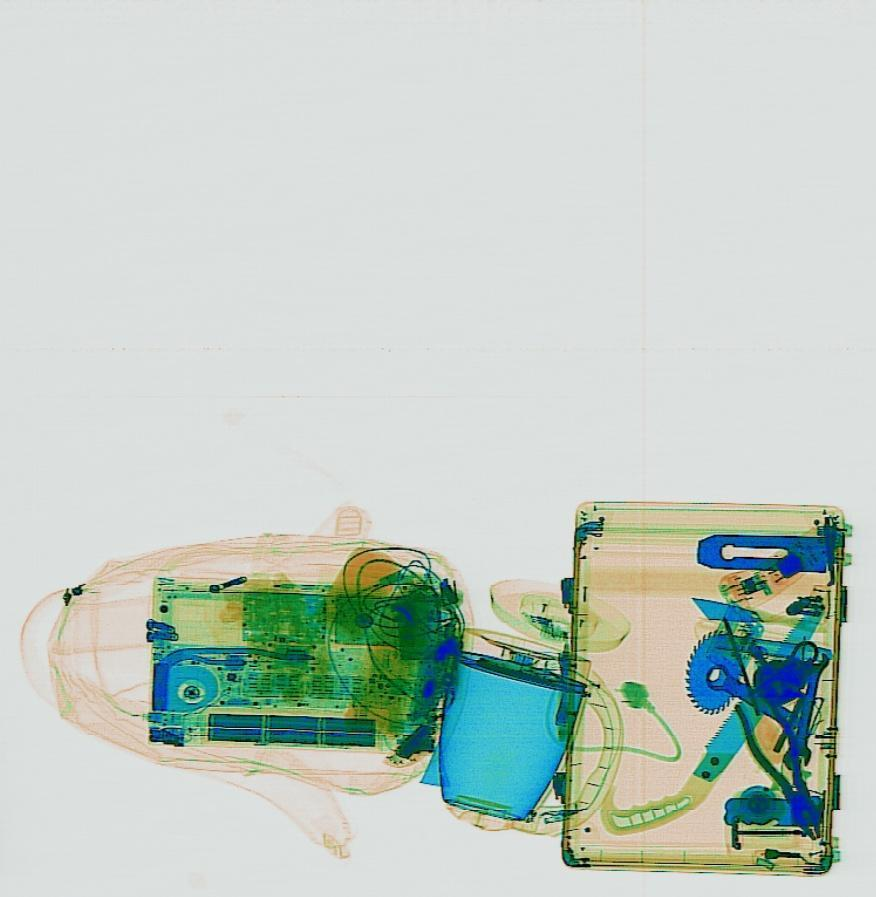Pliers: (727, 686, 836, 849)
Wrench: (699, 657, 819, 744), (780, 649, 833, 771)
